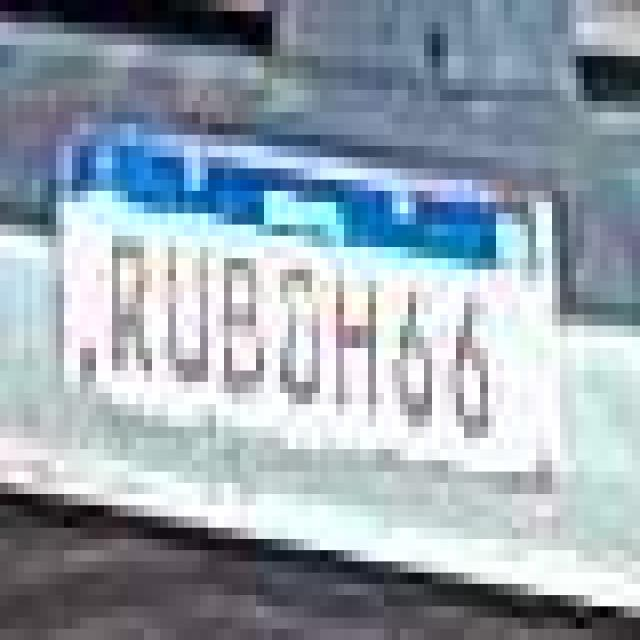0: (272, 266, 326, 415)
6: (448, 283, 501, 444), (389, 280, 442, 433)
B: (218, 252, 272, 401)
H: (330, 264, 384, 422)
R: (100, 226, 165, 382)
U: (159, 235, 218, 397)
